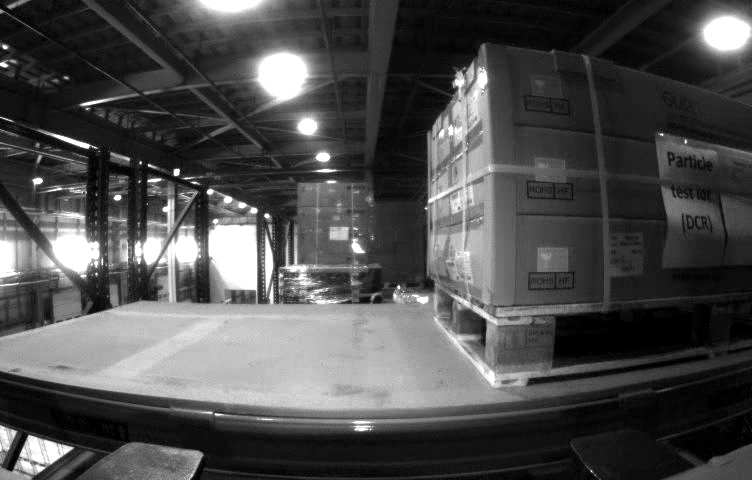True Barcode: (609, 232, 645, 275)
